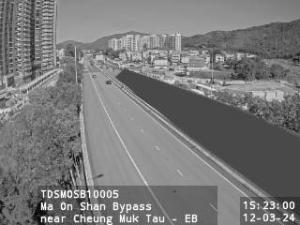motorbike: (93, 74, 95, 78)
vehicle: (106, 78, 112, 84)
